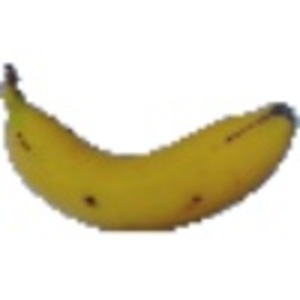banana: (1, 59, 295, 232)
